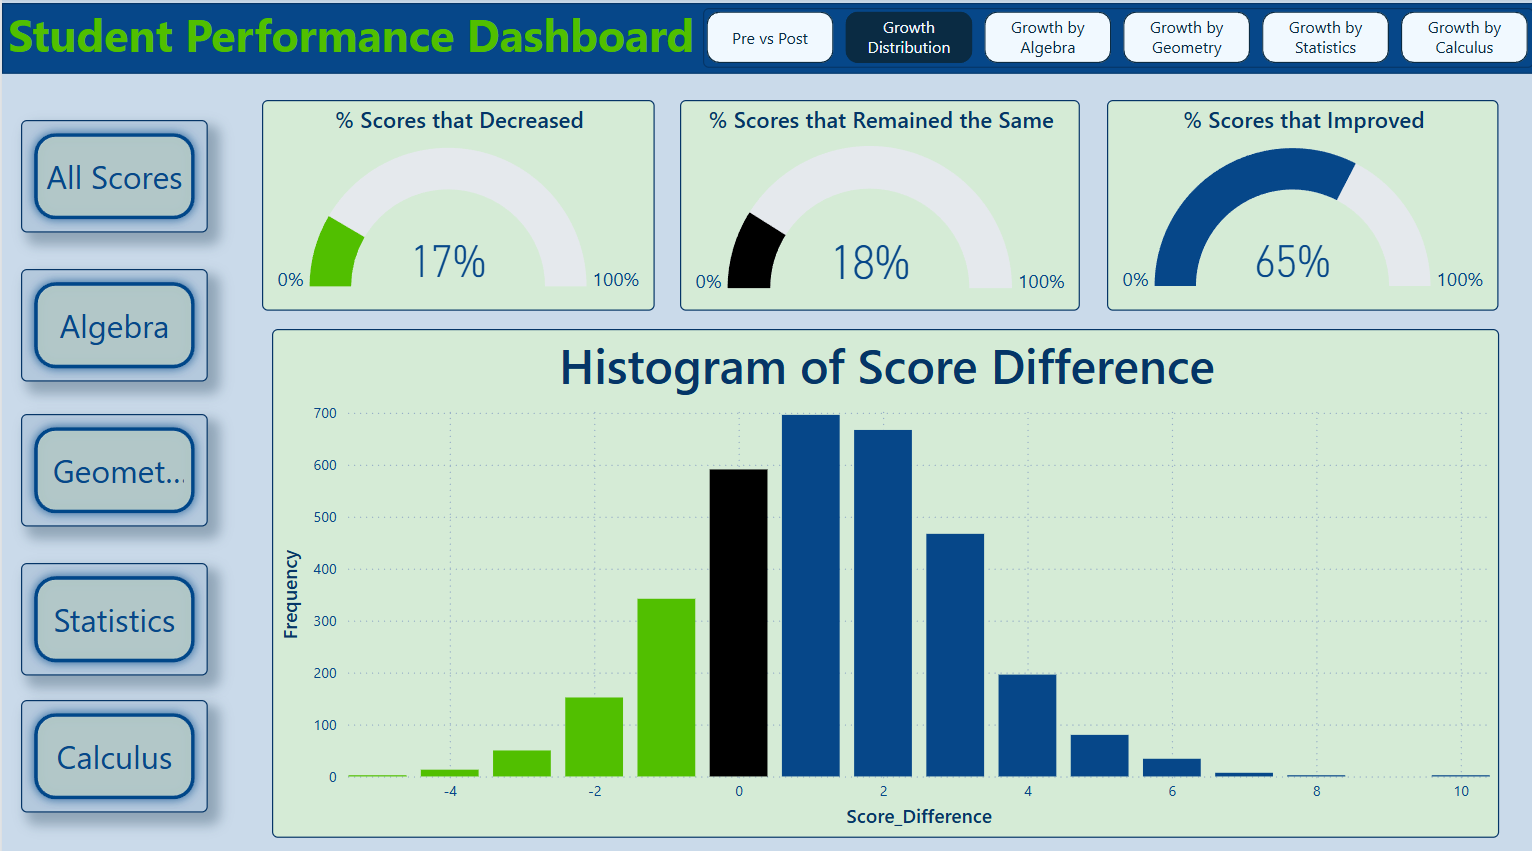

Layout of this report page (visuals, bound fields, positions):
{"tool":"powerbi","page":{"name":"Growth Distribution","canvas":[1280,720],"ordinal":1},"visuals":[{"type":"actionButton","box":[16,102,156.1,94],"z":0},{"type":"clusteredColumnChart","title":"Histogram of Score Difference","fields":{"Category":["Test_Differences.Score Difference"],"Y":["Sum(Test_Differences.Frequency)"]},"box":[225.2,276.7,1025,424.7],"z":1000},{"type":"gauge","title":"% Scores that Improved","fields":{"Y":["Test_Differences.PercentPositiveFrequency"]},"box":[923.1,85.1,327.2,175.6],"z":6000},{"type":"gauge","title":"% Scores that Remained the Same","fields":{"Y":["Test_Differences.PercentZeroFrequency"]},"box":[566.6,85.1,334.3,175.6],"z":7000},{"type":"gauge","title":"% Scores that Decreased","fields":{"Y":["Test_Differences.Percent"]},"box":[217.2,85.1,328.1,175.6],"z":8000},{"type":"shape","box":[0,4.2,1280,59.2],"z":9000},{"type":"textbox","box":[0,0,594.6,63.9],"z":10000},{"type":"pageNavigator","box":[585.6,8,694.4,49.9],"z":11000},{"type":"actionButton","box":[16,226.1,156.1,94],"z":25000},{"type":"actionButton","box":[16,347.6,156.1,94],"z":26000},{"type":"actionButton","box":[16,471.7,156.1,94],"z":27000},{"type":"actionButton","box":[16,586.1,156.1,94],"z":28000}]}

Visuals, with their boxes in screenshot pixels (x1, y1, x2, y2), scaled from the page's 1280x720 canvas onto the 1532x851 screenshot:
actionButton: [19,121,206,232]
"Histogram of Score Difference" clusteredColumnChart: [270,327,1496,829]
"% Scores that Improved" gauge: [1105,101,1496,308]
"% Scores that Remained the Same" gauge: [678,101,1078,308]
"% Scores that Decreased" gauge: [260,101,653,308]
shape: [0,5,1531,75]
textbox: [0,0,712,76]
pageNavigator: [701,9,1531,68]
actionButton: [19,267,206,378]
actionButton: [19,411,206,522]
actionButton: [19,558,206,669]
actionButton: [19,693,206,804]
